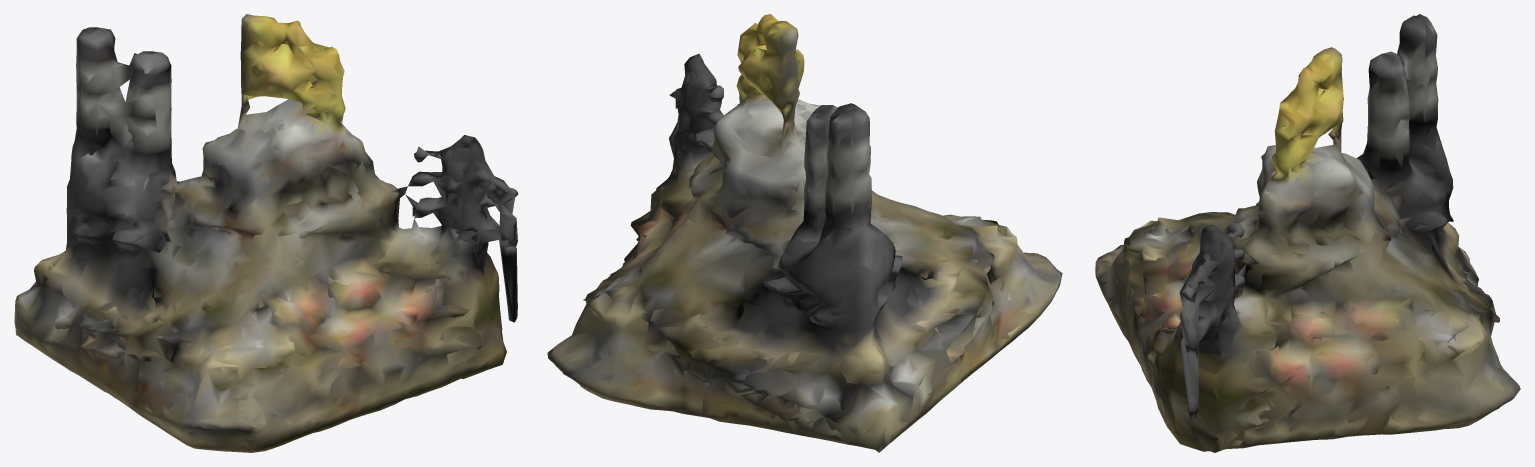
The model's file is tech_power_plant.glb.
The picture shows the model from 3 angles, left to right: view 1: azimuth 30°, elevation 25°; view 2: azimuth 150°, elevation 25°; view 3: azimuth 270°, elevation 25°; orthographic projection. The views are drawn at different scales.
Visible parts, largest first — view 1: tech_power_plant; view 2: tech_power_plant; view 3: tech_power_plant.
Boxes of the visible parts, x1=… form: tech_power_plant: x1=14, y1=14, x2=518, y2=452; tech_power_plant: x1=547, y1=14, x2=1062, y2=452; tech_power_plant: x1=1095, y1=14, x2=1520, y2=452.
Size of the model in its own units: 1.76 by 1.53 by 1.89.
